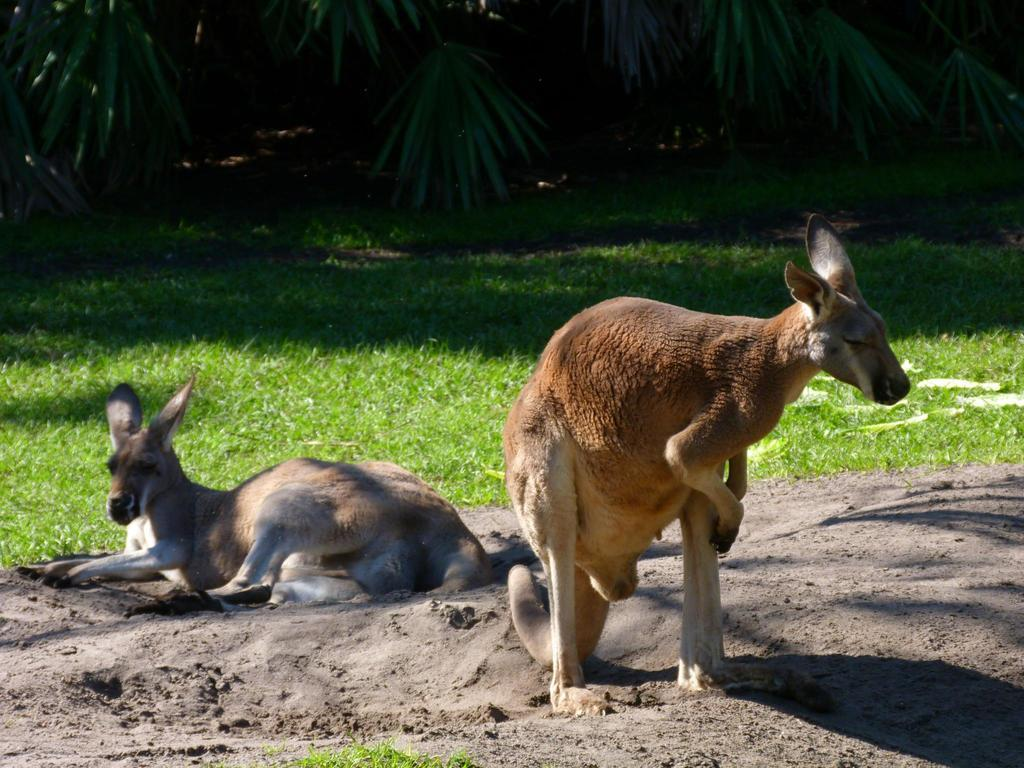kangaroo: (498, 214, 912, 722), (16, 384, 501, 607)
